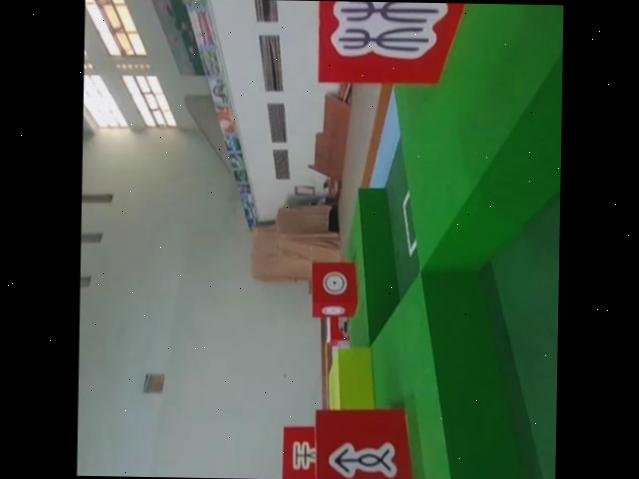R2 Fake: (312, 0, 488, 89)
R2 Real: (310, 404, 426, 479), (305, 259, 365, 320)
